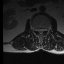CCS_normal: (40, 26, 42, 35)
LFS_normal: (44, 26, 46, 33)
LLS_normal: (42, 27, 44, 34)
RFS_normal: (35, 26, 37, 32)
RLS_normal: (37, 27, 40, 33)
